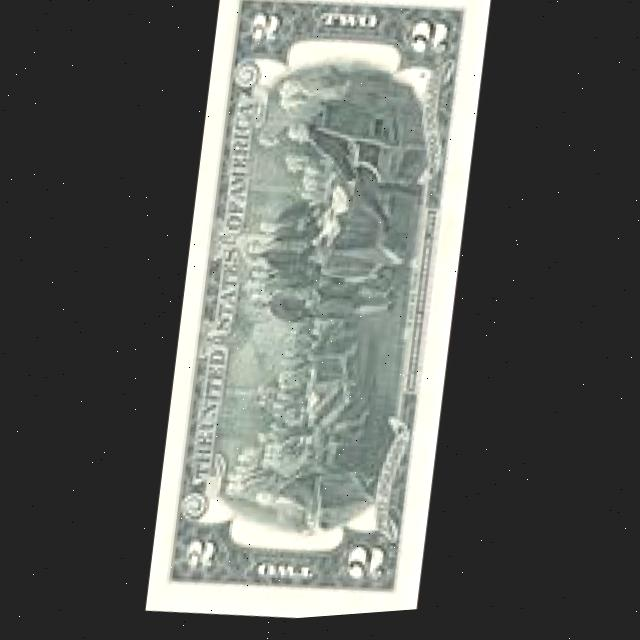banknote: (142, 0, 484, 632)
